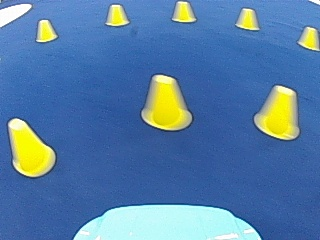cone: (6, 118, 54, 176), (141, 74, 190, 130), (254, 84, 299, 140), (235, 7, 259, 30), (104, 4, 129, 26), (35, 18, 57, 42), (171, 0, 195, 22), (297, 26, 318, 49)
